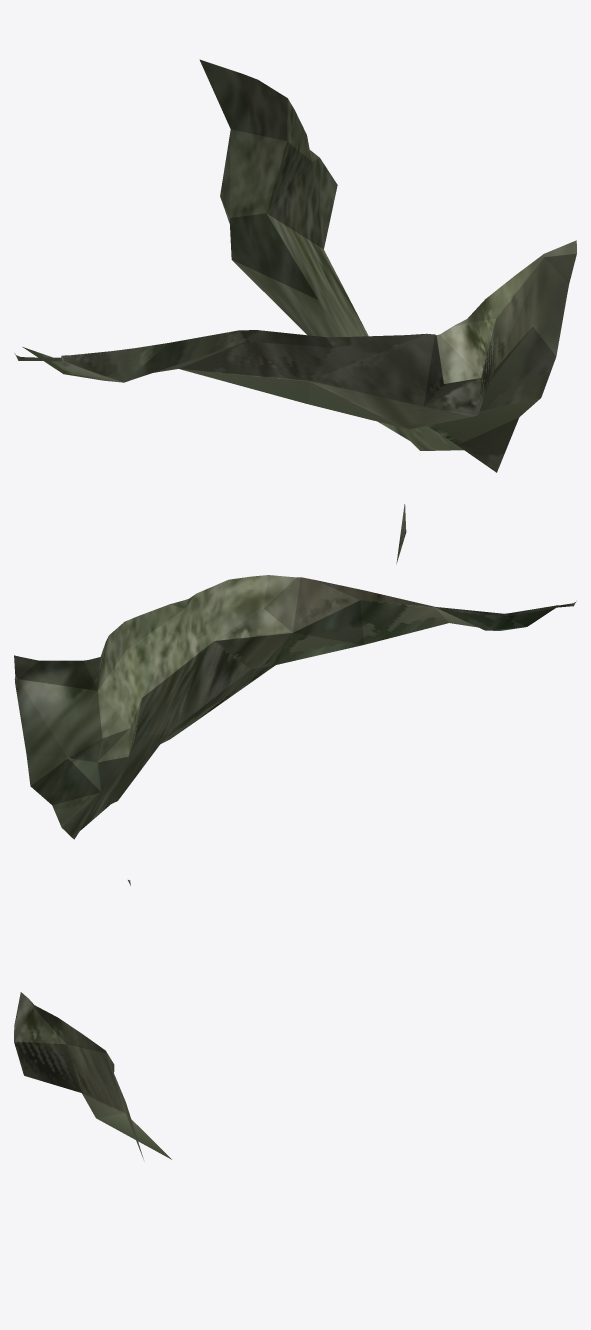
The picture shows the model from 3 angles, top to bottom: view 1: azimuth 30°, elevation 25°; view 2: azimuth 150°, elevation 25°; view 3: azimuth 270°, elevation 25°; orthographic projection. The views are drawn at different scales.
Size of the model in its own units: 2.03 by 1.21 by 2.46.
1 material, 1 textured.
